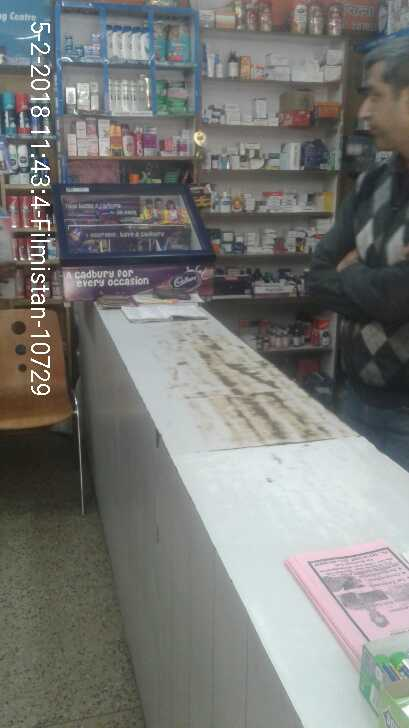vicks: (64, 32, 101, 59)
